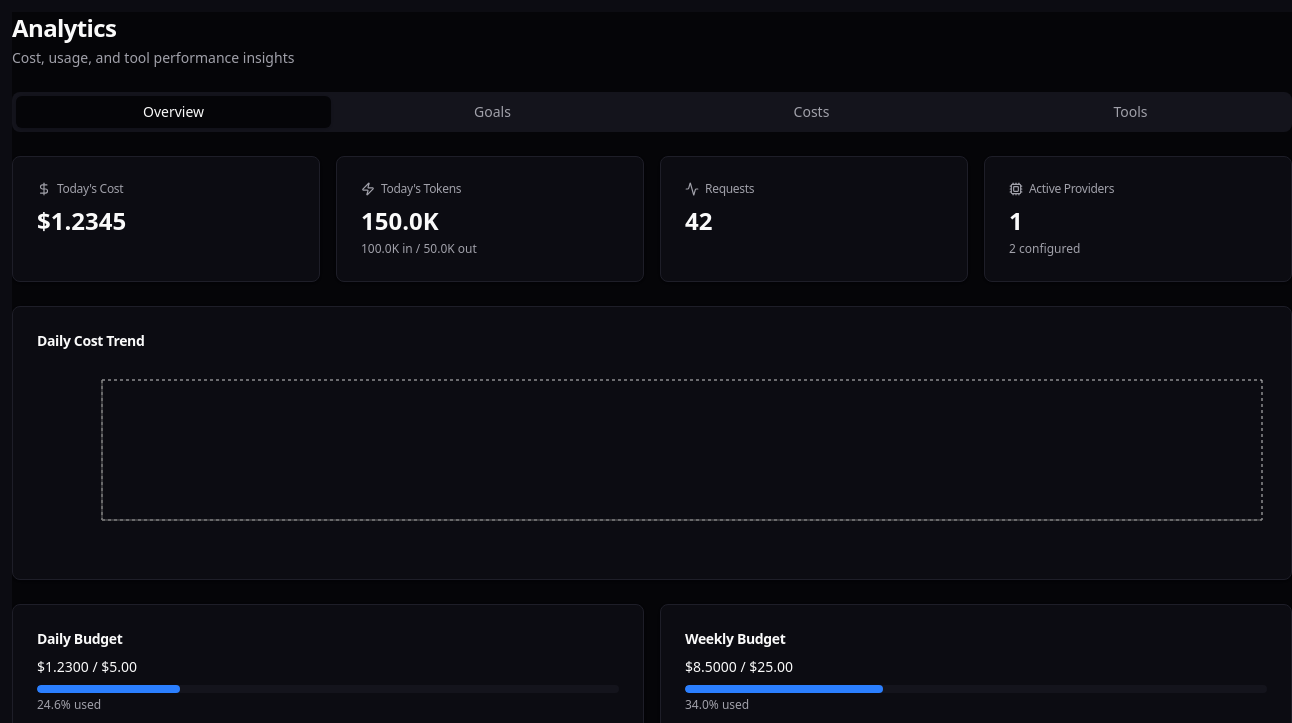
Test case: AnalyticsPage › switches to Tools tab and shows tool stats
The image size is (1292, 723).
Click the button "Tools" at (1130, 112), box [973,96,1288,128]
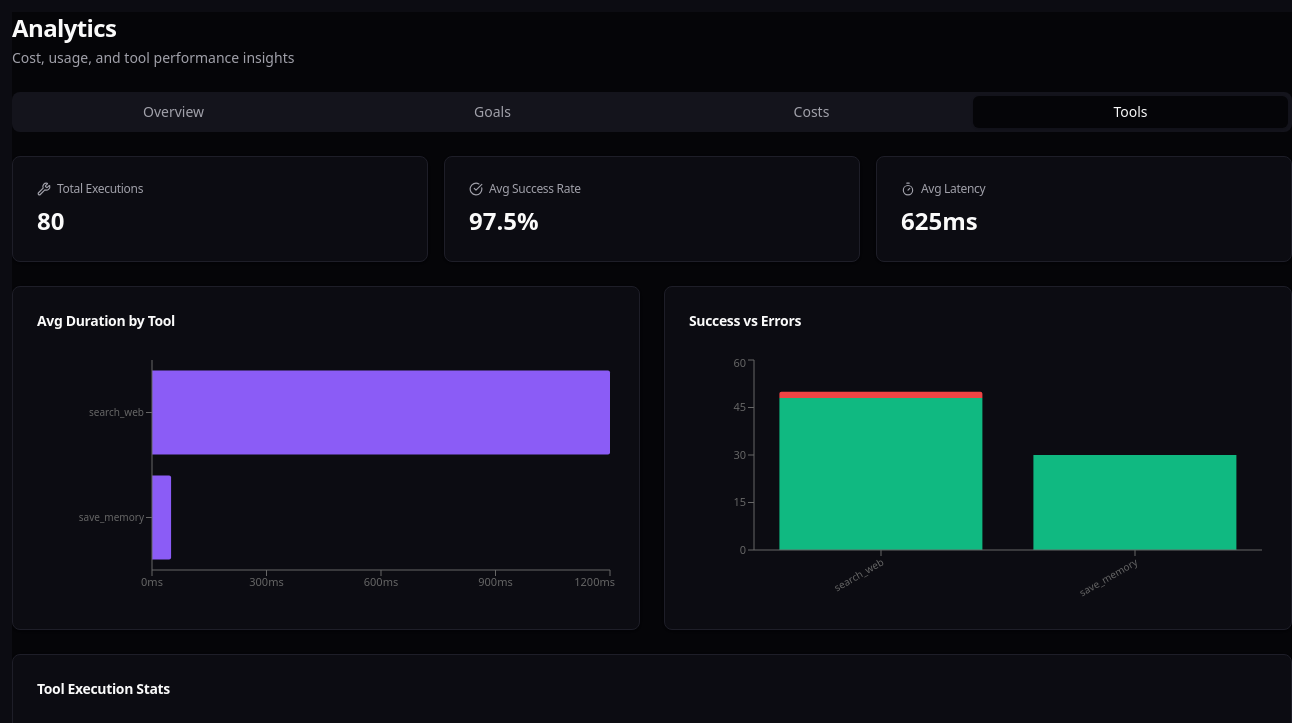
Check: the heading "Total Executions" is shown, box [37,180,143,197]
Check: the heading "Avg Success Rate" is shown, box [469,180,581,197]
Check: the heading "Avg Latency" is shown, box [901,180,985,197]
